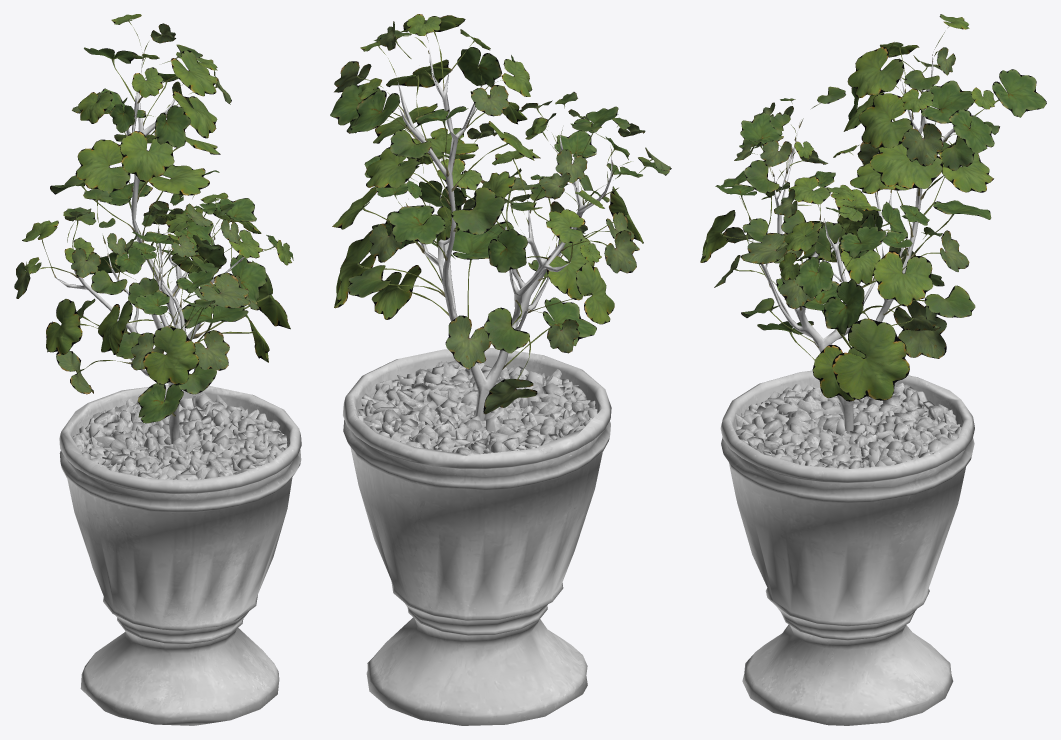
Rendered from plant-1.fallback.glb.
The picture shows the model from 3 angles, left to right: view 1: azimuth 30°, elevation 25°; view 2: azimuth 150°, elevation 25°; view 3: azimuth 270°, elevation 25°; orthographic projection. The views are drawn at different scales.
Visible parts, largest first — view 1: potted_plant_01_pot, potted_plant_01_leaves, potted_plant_01_pebbles, potted_plant_01_stem; view 2: potted_plant_01_pot, potted_plant_01_leaves, potted_plant_01_pebbles, potted_plant_01_stem; view 3: potted_plant_01_pot, potted_plant_01_leaves, potted_plant_01_pebbles, potted_plant_01_stem.
Part boxes in pixels (left/top/right/bottom): potted_plant_01_pot: left=59, top=384, right=301, bottom=725; potted_plant_01_leaves: left=14, top=14, right=293, bottom=423; potted_plant_01_pebbles: left=68, top=392, right=287, bottom=480; potted_plant_01_stem: left=54, top=57, right=244, bottom=444; potted_plant_01_pot: left=343, top=348, right=611, bottom=725; potted_plant_01_leaves: left=330, top=14, right=671, bottom=414; potted_plant_01_pebbles: left=358, top=360, right=597, bottom=463; potted_plant_01_stem: left=397, top=48, right=612, bottom=420; potted_plant_01_pot: left=720, top=370, right=974, bottom=725; potted_plant_01_leaves: left=700, top=14, right=1046, bottom=401; potted_plant_01_pebbles: left=735, top=383, right=961, bottom=468; potted_plant_01_stem: left=752, top=57, right=954, bottom=434.
Size of the model in its own units: 0.5374 by 1.22 by 0.58.
Materials: 2 (2 with a texture image).
